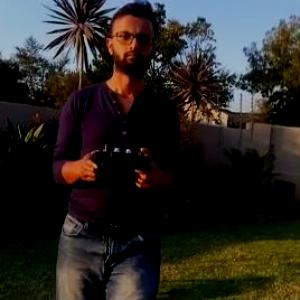follow: (47, 0, 185, 299)
